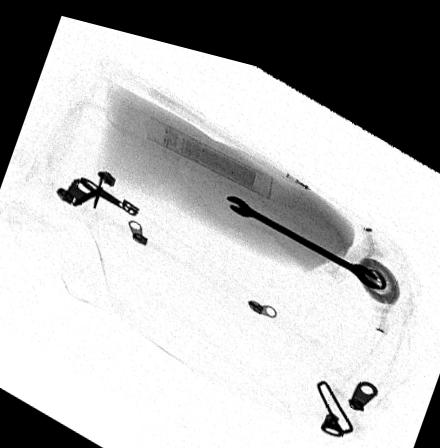Wrench: (225, 182, 384, 272)
